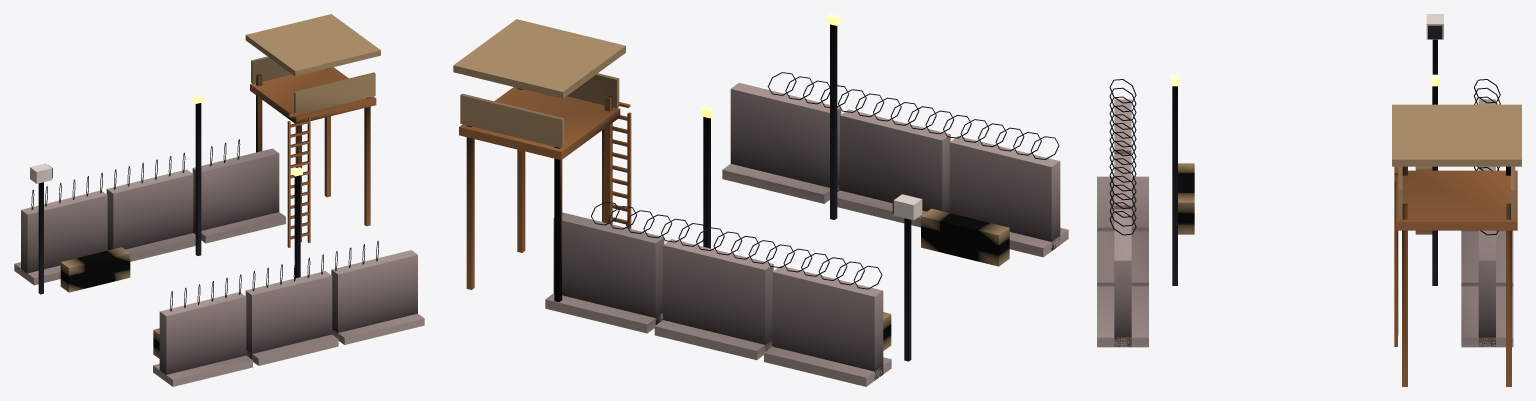
The picture shows the model from 3 angles, left to right: view 1: azimuth 30°, elevation 25°; view 2: azimuth 150°, elevation 25°; view 3: azimuth 270°, elevation 25°; orthographic projection. The views are drawn at different scales.
Visible parts, largest first — view 1: body_pal_sidewalk, body_pal_khaki, body_pal_woodWarm, body_pal_uiDark, body_pal_picketWhite; view 2: body_pal_sidewalk, body_pal_khaki, body_pal_woodWarm, body_pal_uiDark, body_pal_picketWhite; view 3: body_pal_sidewalk, body_pal_khaki, body_pal_woodWarm, body_pal_uiDark.
Part boxes in pixels (left/top/right/bottom): body_pal_sidewalk: left=14, top=148, right=424, bottom=386; body_pal_khaki: left=60, top=14, right=380, bottom=358; body_pal_woodWarm: left=250, top=67, right=376, bottom=247; body_pal_uiDark: left=31, top=103, right=378, bottom=311; body_pal_picketWhite: left=30, top=163, right=52, bottom=183; body_pal_sidewalk: left=545, top=82, right=1068, bottom=386; body_pal_khaki: left=453, top=19, right=1009, bottom=350; body_pal_woodWarm: left=459, top=87, right=631, bottom=301; body_pal_uiDark: left=591, top=24, right=1059, bottom=361; body_pal_picketWhite: left=893, top=194, right=922, bottom=220; body_pal_sidewalk: left=1097, top=99, right=1513, bottom=347; body_pal_khaki: left=1178, top=104, right=1521, bottom=234; body_pal_woodWarm: left=1394, top=166, right=1517, bottom=386; body_pal_uiDark: left=1109, top=25, right=1500, bottom=285.
Bounding box in the file's own units: 11.58 × 5.89 × 9.8.
